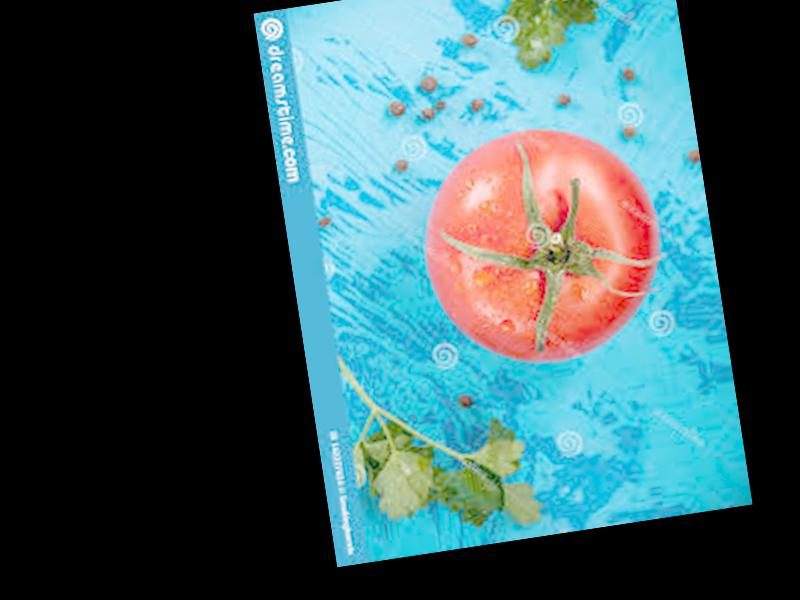Tomato: (409, 113, 674, 378)
